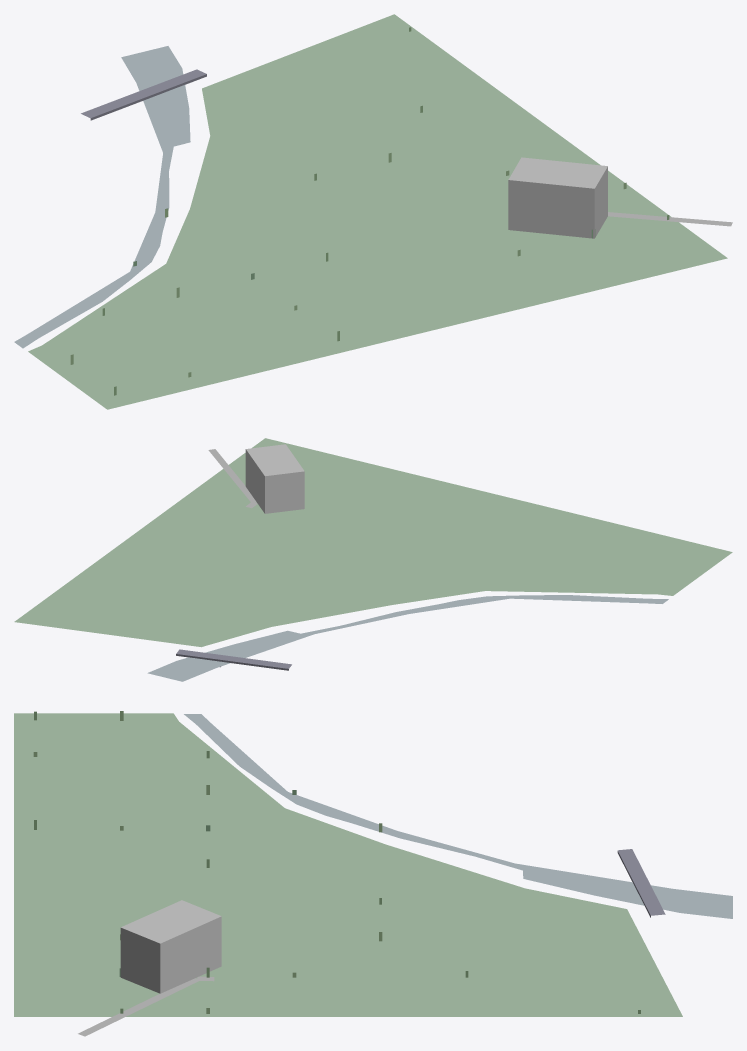
3 renders of one model, top to bottom at view 1: azimuth 30°, elevation 25°; view 2: azimuth 150°, elevation 25°; view 3: azimuth 270°, elevation 25°, orthographic. The views are drawn at different scales.
Size of the model in its own units: 532 by 40.33 by 500.
